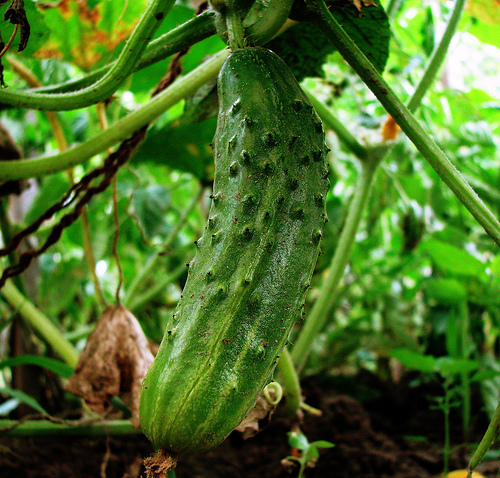cucumber: (137, 44, 332, 457)
